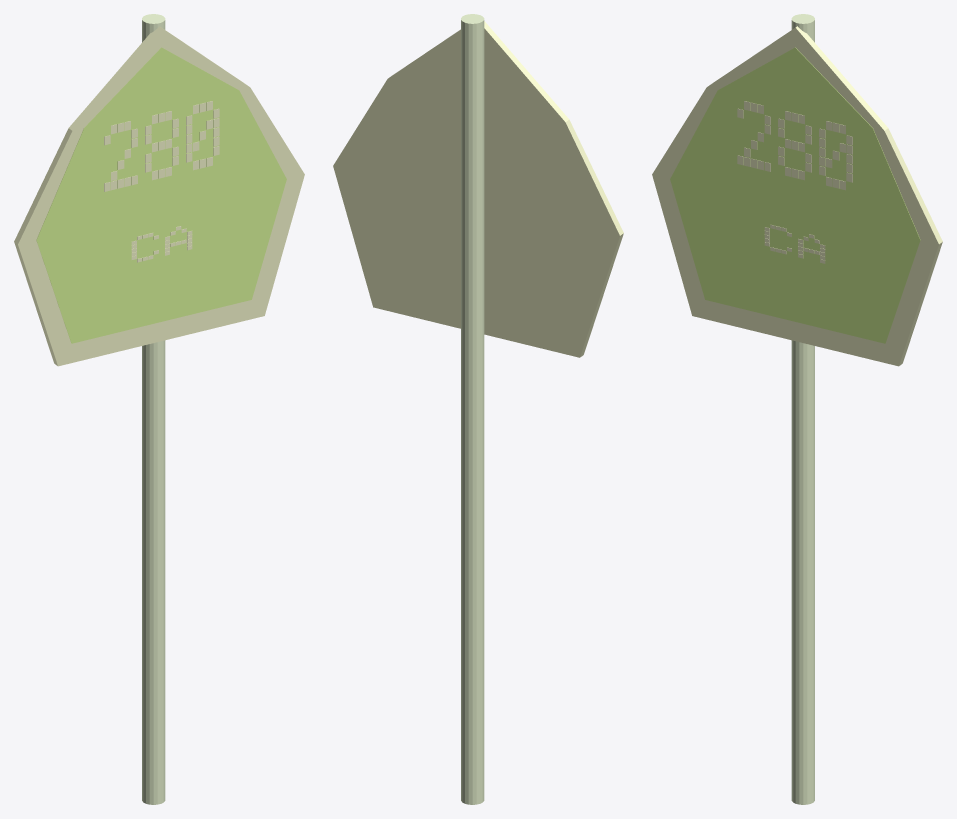
Rendered from sign_route_ca_280_shield.glb.
3 renders of one model, left to right at view 1: azimuth 30°, elevation 25°; view 2: azimuth 150°, elevation 25°; view 3: azimuth 330°, elevation 25°, orthographic.
Parts seen in each view (by area): view 1: layer_1_00, plate_base_00, pole; view 2: plate_base_00, pole; view 3: layer_1_00, plate_base_00, pole.
Boxes of the visible parts, box(x1,y1,x2,y2) form: layer_1_00: box(36, 47, 286, 343); plate_base_00: box(14, 26, 304, 366); pole: box(142, 14, 165, 804); plate_base_00: box(333, 21, 623, 357); pole: box(461, 14, 484, 804); layer_1_00: box(670, 47, 920, 343); plate_base_00: box(652, 26, 942, 366); pole: box(791, 14, 814, 804).
Size of the model in its own units: 0.846 by 2.2 by 0.0725.
